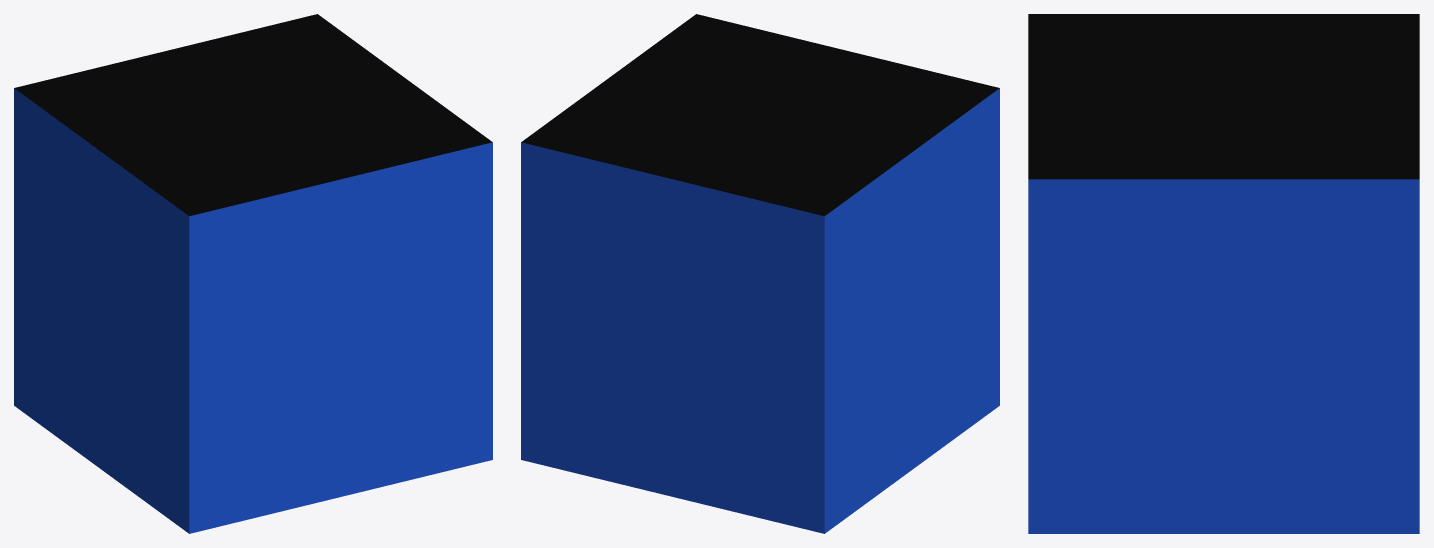
The model's file is chatbot.glb.
3 renders of one model, left to right at view 1: azimuth 30°, elevation 25°; view 2: azimuth 150°, elevation 25°; view 3: azimuth 270°, elevation 25°, orthographic. The views are drawn at different scales.
Parts seen in each view (by area): view 1: Cube; view 2: Cube; view 3: Cube.
Boxes of the visible parts, bbox=[...] form: Cube: bbox=[14, 14, 492, 533]; Cube: bbox=[521, 14, 999, 533]; Cube: bbox=[1028, 14, 1419, 533].
Size of the model in its own units: 2 by 2 by 2.
